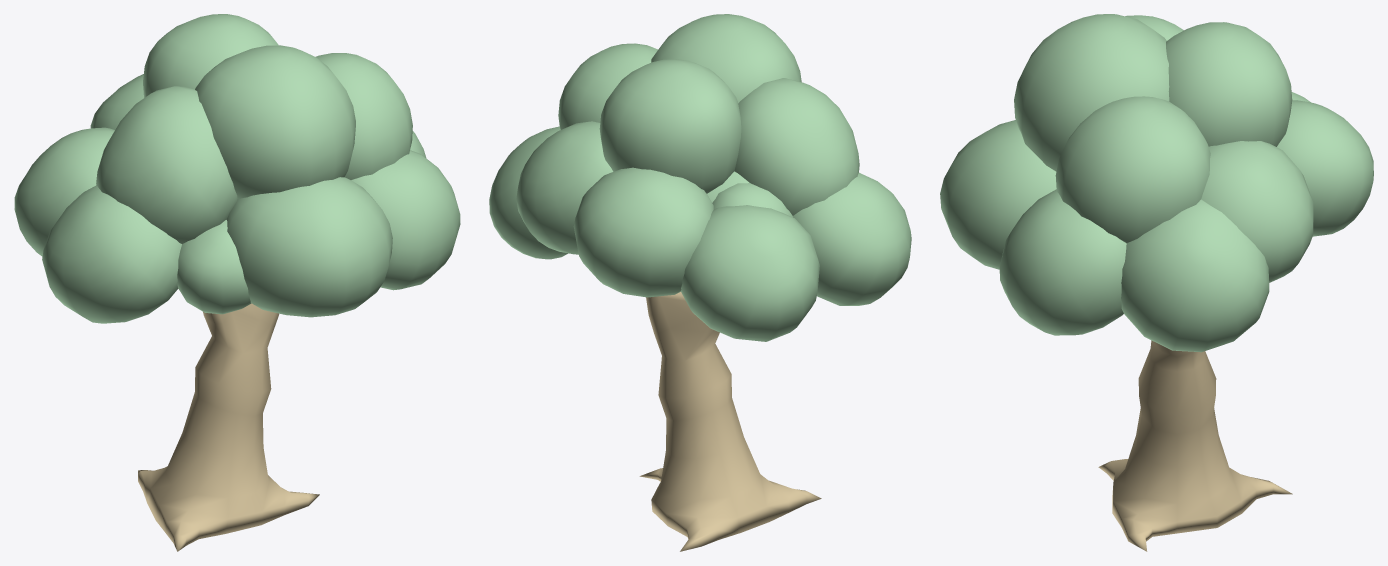
File: orange tree.fbx
3 renders of one model, left to right at view 1: azimuth 30°, elevation 25°; view 2: azimuth 150°, elevation 25°; view 3: azimuth 270°, elevation 25°, orthographic. The views are drawn at different scales.
Visible parts, largest first — view 1: tree_4; view 2: tree_4; view 3: tree_4.
Part boxes in pixels (x1=…): tree_4: x1=14, y1=14, x2=460, y2=551; tree_4: x1=489, y1=14, x2=911, y2=551; tree_4: x1=940, y1=14, x2=1373, y2=551.
Bounding box in the file's own units: 21.59 × 24.88 × 19.79.
